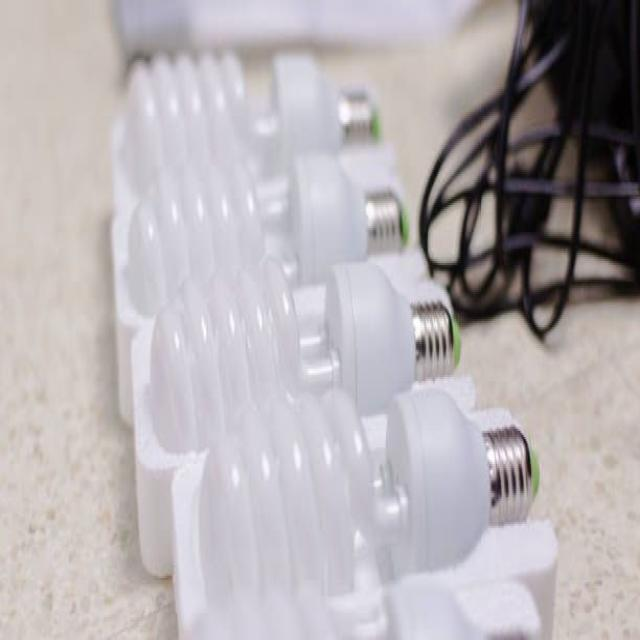electronic: (108, 45, 551, 636), (170, 375, 540, 636)
